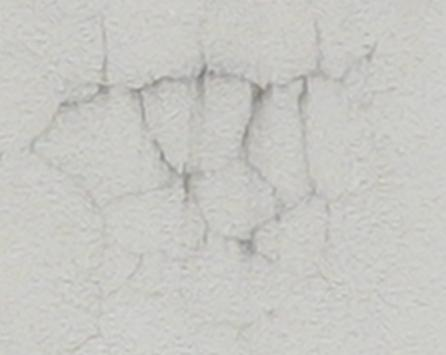fissura: (31, 21, 380, 285)
